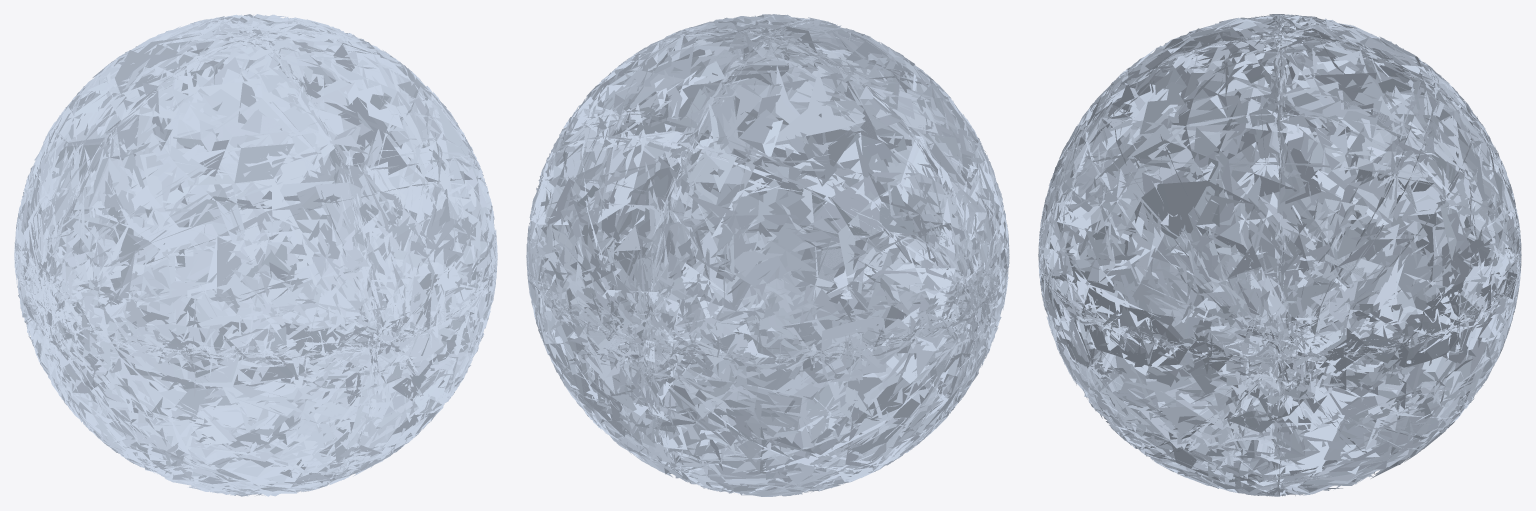
The picture shows the model from 3 angles, left to right: view 1: azimuth 30°, elevation 25°; view 2: azimuth 150°, elevation 25°; view 3: azimuth 270°, elevation 25°; orthographic projection.
Parts seen in each view (by area): view 1: 20A-20A-structural; view 2: 20A-20A-structural; view 3: 20A-20A-structural.
Boxes of the visible parts, left/top/right/bottom form: 20A-20A-structural: left=14, top=14, right=497, bottom=496; 20A-20A-structural: left=526, top=14, right=1009, bottom=496; 20A-20A-structural: left=1038, top=14, right=1521, bottom=496.
Bounding box in the file's own units: 2 × 2 × 2.
